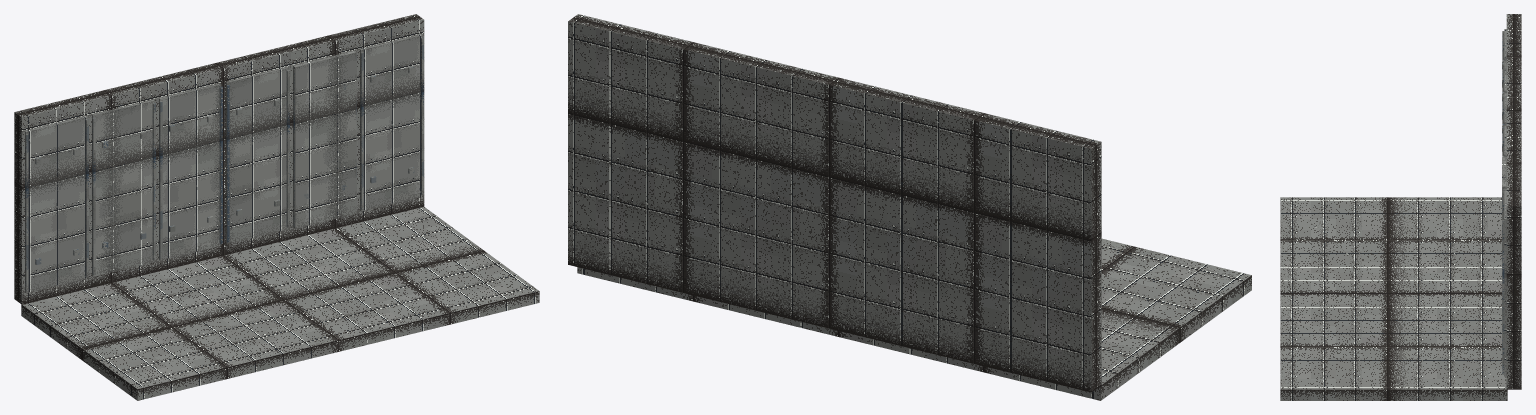
File: secret_tier_subtle.glb
The picture shows the model from 3 angles, left to right: view 1: azimuth 30°, elevation 25°; view 2: azimuth 150°, elevation 25°; view 3: azimuth 270°, elevation 25°; orthographic projection. The views are drawn at different scales.
Visible parts, largest first — view 1: secret_tier_subtle; view 2: secret_tier_subtle; view 3: secret_tier_subtle.
Boxes of the visible parts, x1,y1,x2,y2 form: secret_tier_subtle: (14,14,539,400); secret_tier_subtle: (568,14,1251,400); secret_tier_subtle: (1280,14,1521,400).
Bounding box in the file's own units: 7.2 × 3.4 × 3.82.
Materials: 3 (3 with a texture image).
